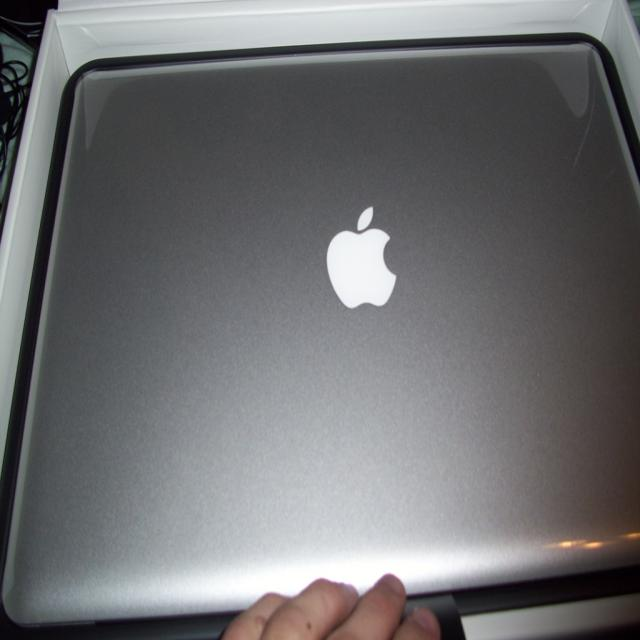apple: (323, 203, 403, 316)
